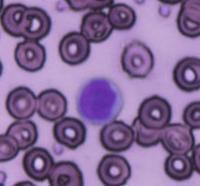L: (76, 76, 123, 126)
